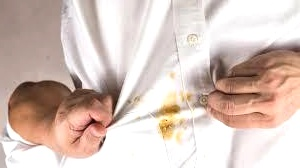oil: (152, 93, 194, 150), (127, 94, 145, 120), (167, 72, 181, 82), (127, 147, 138, 157)
